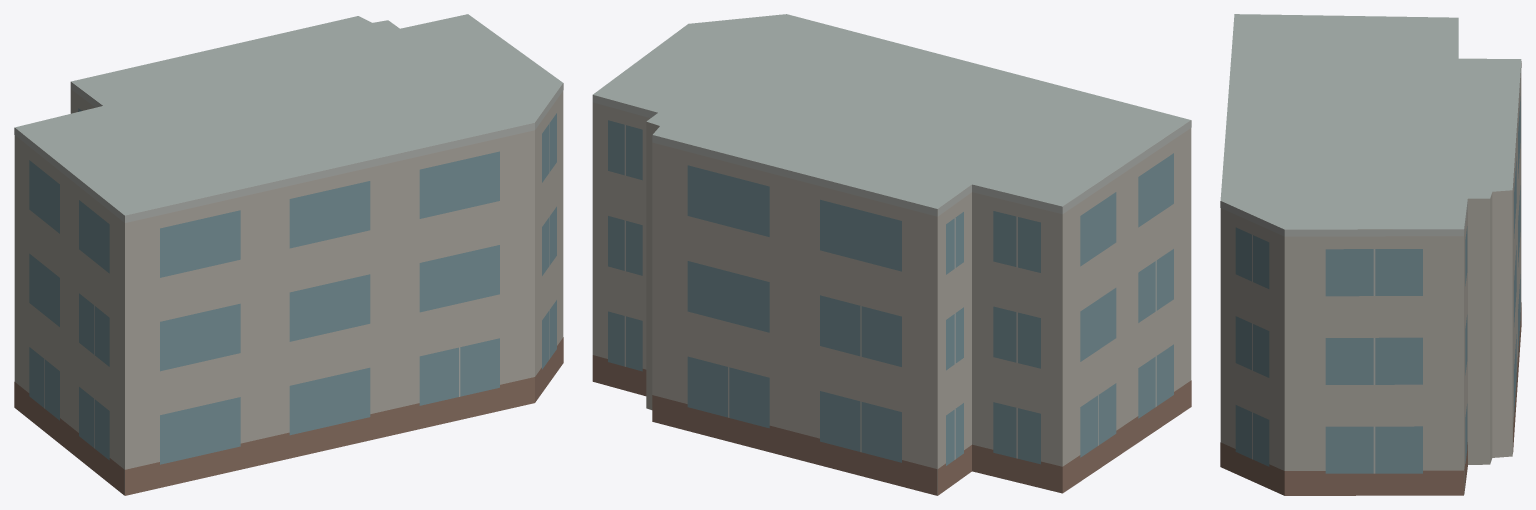
Rendered from survey-upis-33011948.glb.
The picture shows the model from 3 angles, left to right: view 1: azimuth 30°, elevation 25°; view 2: azimuth 150°, elevation 25°; view 3: azimuth 270°, elevation 25°; orthographic projection. The views are drawn at different scales.
Parts seen in each view (by area): view 1: survey-upis-33011948.tmp; view 2: survey-upis-33011948.tmp; view 3: survey-upis-33011948.tmp.
Boxes of the visible parts, x1,y1,x2,y2 form: survey-upis-33011948.tmp: [14, 14, 563, 495]; survey-upis-33011948.tmp: [592, 14, 1191, 495]; survey-upis-33011948.tmp: [1220, 14, 1521, 495].
Bounding box in the file's own units: 15.9 × 9.15 × 9.38.
